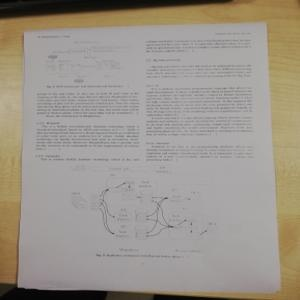diagram: (67, 166, 251, 257), (36, 37, 140, 84)
text: (144, 85, 254, 139), (35, 88, 142, 123), (31, 122, 140, 153), (145, 139, 257, 163), (143, 38, 252, 57), (148, 62, 256, 81)
